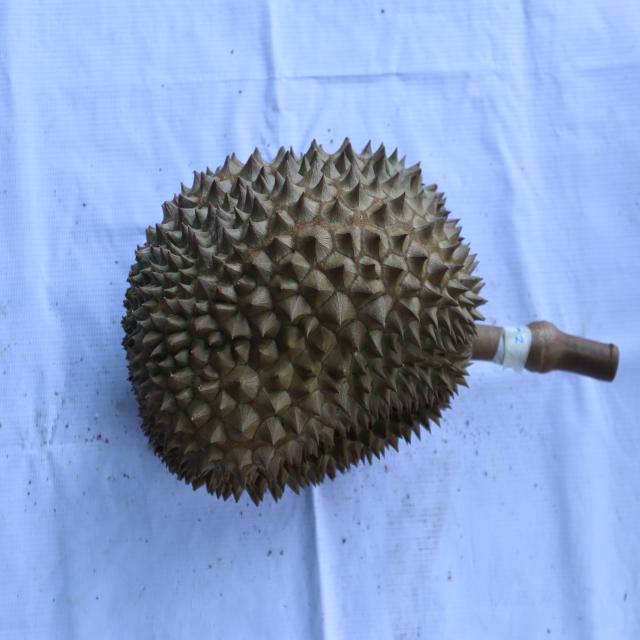mature: (119, 139, 487, 504)
